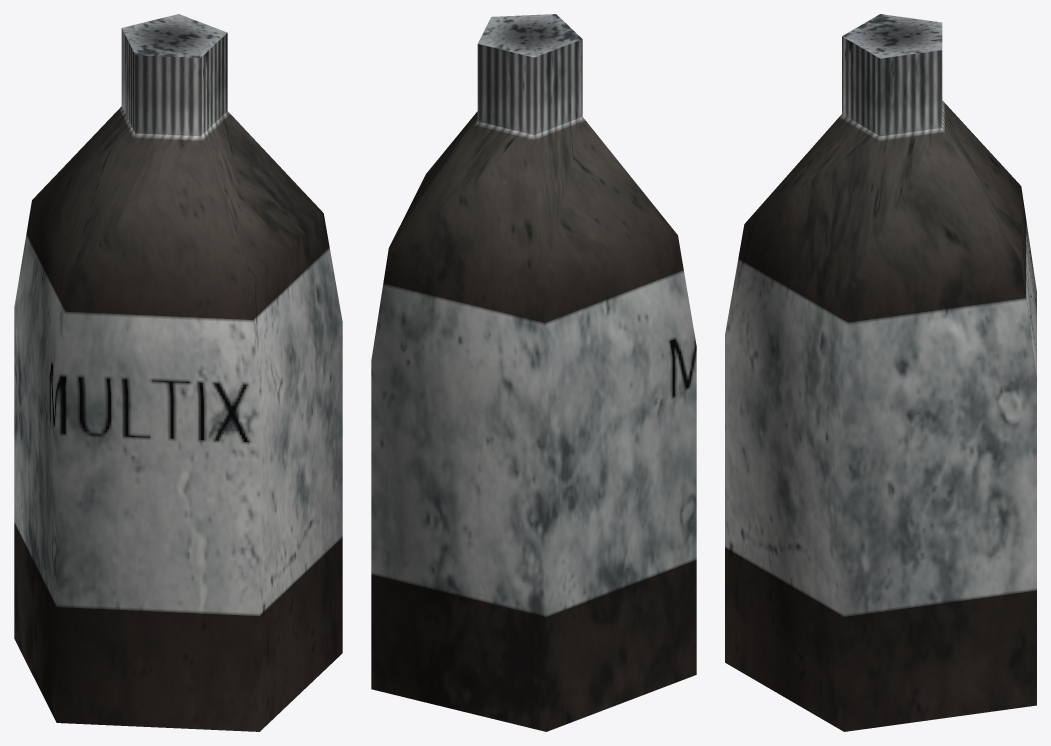
File: medicine_big_C.fbx
3 views of the same model, side by side, from view 1: azimuth 30°, elevation 25°; view 2: azimuth 150°, elevation 25°; view 3: azimuth 270°, elevation 25° (orthographic).
Visible parts, largest first — view 1: medicine_big_C; view 2: medicine_big_C; view 3: medicine_big_C.
Boxes of the visible parts, bbox=[...] form: medicine_big_C: bbox=[14, 14, 342, 731]; medicine_big_C: bbox=[371, 14, 696, 731]; medicine_big_C: bbox=[725, 14, 1036, 731].
Bounding box in the file's own units: 10.68 × 22.51 × 10.16.
